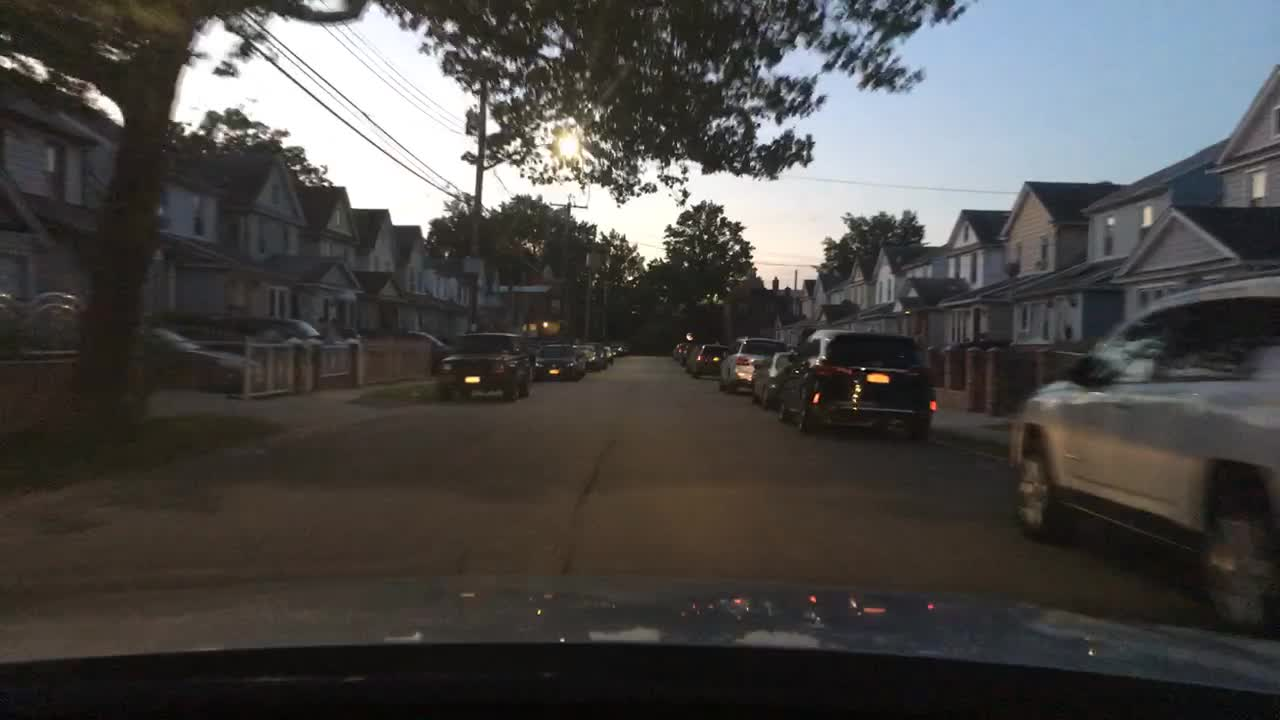car: (1007, 266, 1278, 636), (777, 328, 937, 442), (137, 323, 264, 393), (436, 331, 535, 401), (144, 311, 280, 354), (358, 325, 450, 373), (717, 333, 788, 391), (748, 349, 795, 410), (214, 315, 323, 341), (533, 341, 587, 381), (684, 342, 731, 377), (317, 324, 366, 344), (571, 342, 600, 369), (584, 340, 610, 369), (670, 340, 693, 364), (607, 340, 632, 356), (599, 344, 615, 364)
